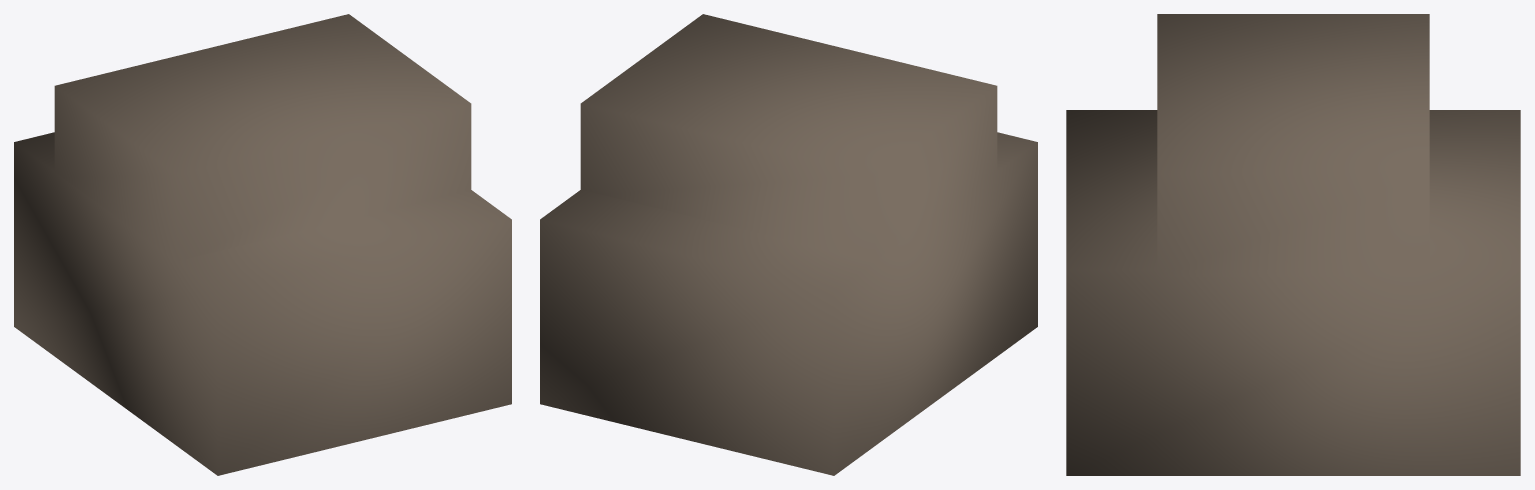
File: donkey_ranch.obj
The picture shows the model from 3 angles, left to right: view 1: azimuth 30°, elevation 25°; view 2: azimuth 150°, elevation 25°; view 3: azimuth 270°, elevation 25°; orthographic projection. The views are drawn at different scales.
Visible parts, largest first — view 1: building; view 2: building; view 3: building.
Boxes of the visible parts, x1,y1,x2,y2 form: building: (14, 14, 511, 475); building: (540, 14, 1037, 475); building: (1066, 14, 1520, 475).
Size of the model in its own units: 2.5 by 2.2 by 3.
